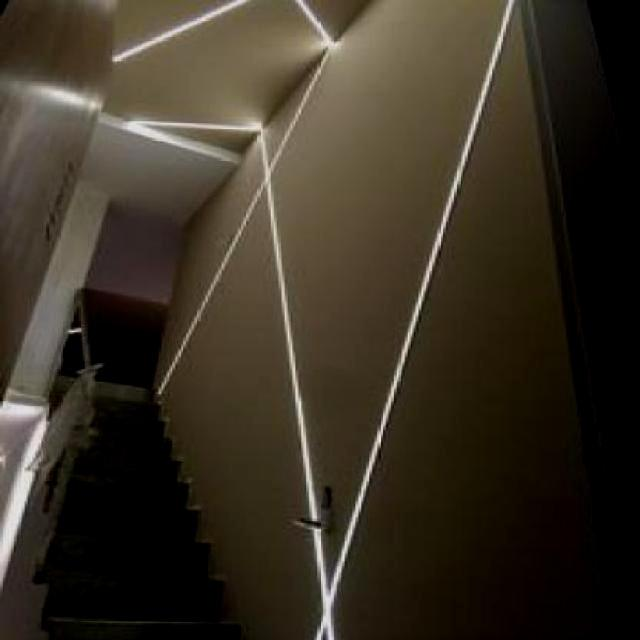stair: (0, 358, 280, 636)
